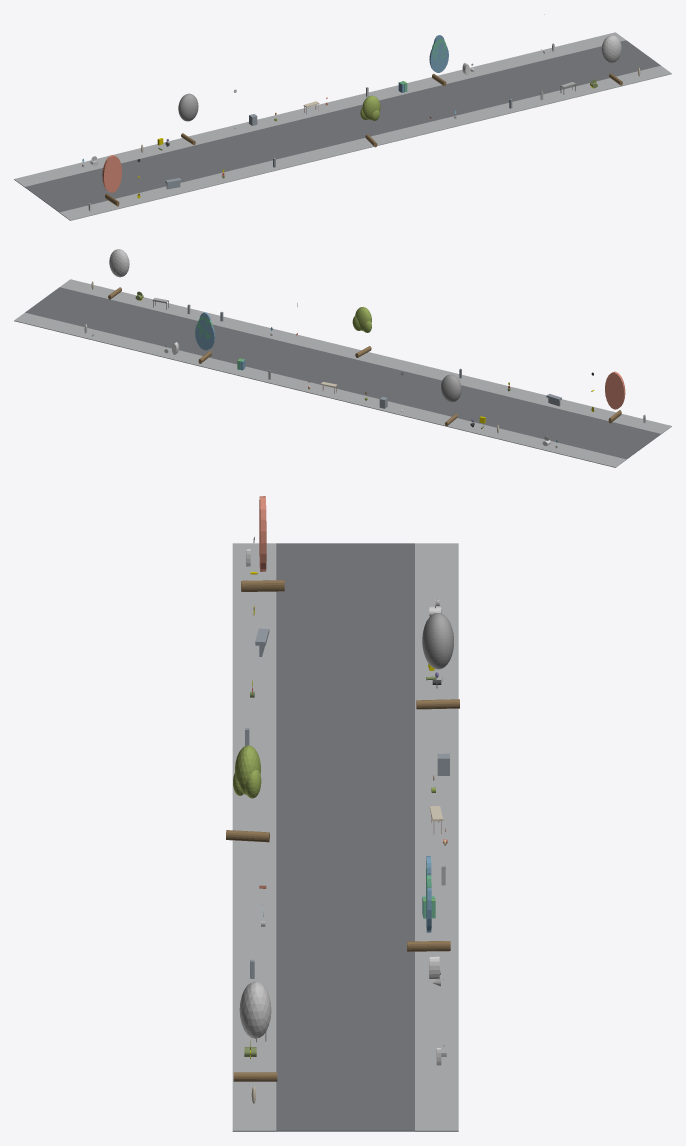
3 renders of one model, top to bottom at view 1: azimuth 30°, elevation 25°; view 2: azimuth 150°, elevation 25°; view 3: azimuth 270°, elevation 25°, orthographic. The views are drawn at different scales.
Parts seen in each view (by area): view 1: road_slab, sidewalk_left, sidewalk_right, inst_0012, inst_0015, inst_0016, inst_0013, inst_0014; view 2: road_slab, sidewalk_right, sidewalk_left, inst_0012, inst_0015, inst_0016, inst_0013, inst_0014; view 3: road_slab, sidewalk_right, sidewalk_left, inst_0016, inst_0013, inst_0014, inst_0012, inst_0015.
Part boxes in pixels (x1,y1,x2,y2): road_slab: [25, 40, 660, 212]; sidewalk_left: [59, 65, 671, 220]; sidewalk_right: [14, 32, 625, 187]; inst_0012: [102, 155, 122, 206]; inst_0015: [429, 35, 448, 86]; inst_0016: [601, 35, 622, 85]; inst_0013: [178, 93, 198, 145]; inst_0014: [360, 95, 380, 147]; road_slab: [25, 287, 660, 459]; sidewalk_right: [14, 312, 626, 467]; sidewalk_left: [60, 279, 671, 434]; inst_0012: [605, 371, 625, 423]; inst_0015: [195, 312, 215, 363]; inst_0016: [108, 249, 129, 299]; inst_0013: [441, 374, 461, 426]; inst_0014: [352, 307, 371, 357]; road_slab: [276, 543, 414, 1131]; sidewalk_right: [415, 543, 458, 1131]; sidewalk_left: [232, 543, 276, 1131]; inst_0016: [233, 981, 277, 1081]; inst_0013: [416, 613, 459, 709]; inst_0014: [226, 745, 269, 842]; inst_0012: [241, 496, 284, 591]; inst_0015: [407, 856, 450, 951].
Bounding box in the file's own units: 80 × 6.08 × 13.49.
